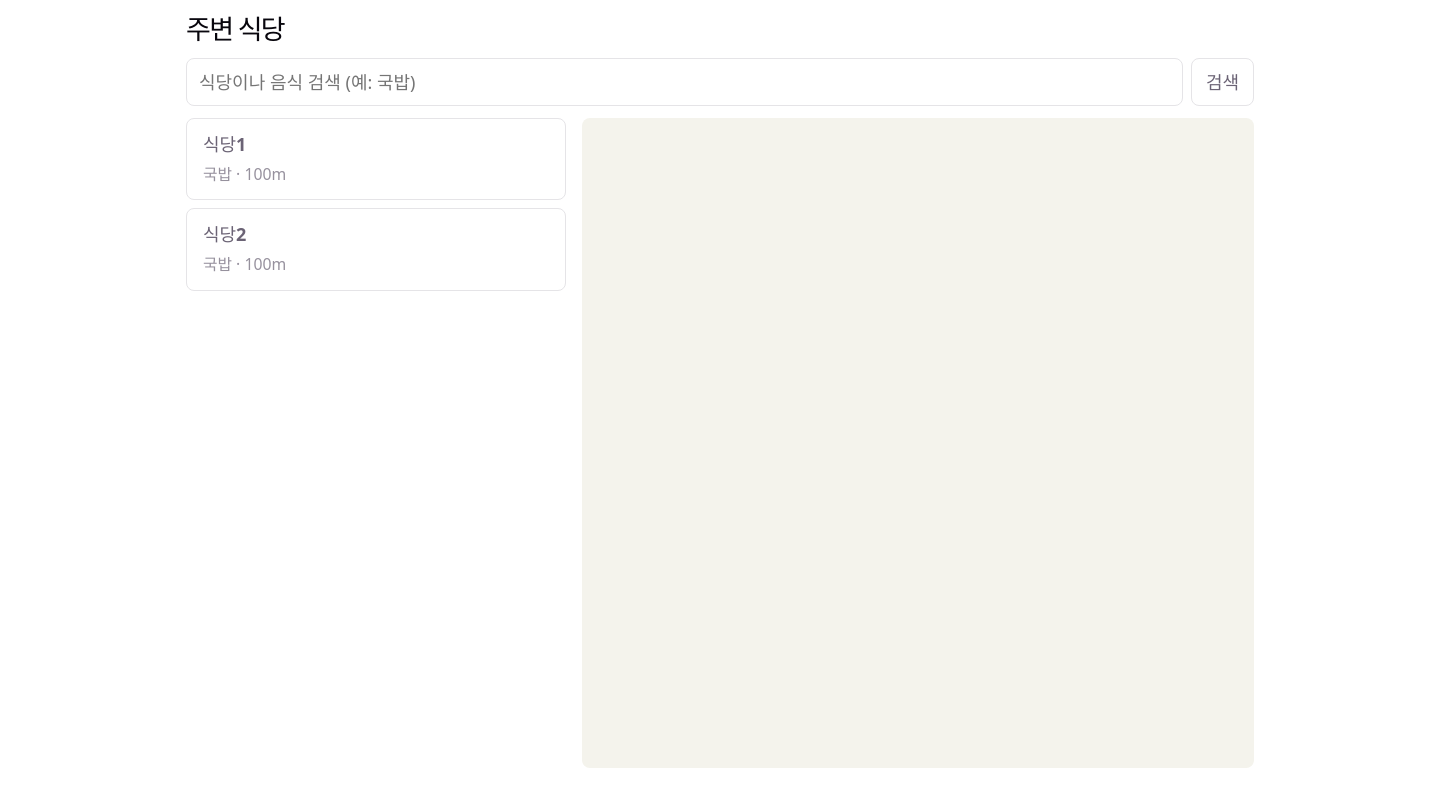
Test case: App › 식당을 선택한 뒤 검색하고 초기화하면 선택이 해제되어 지도가 그 식당으로 이동하지 않는다
This screenshot has width=1440, height=810.
Click the button "식당2 국밥 · 100m": (225, 234) 186,208 -> 566,291
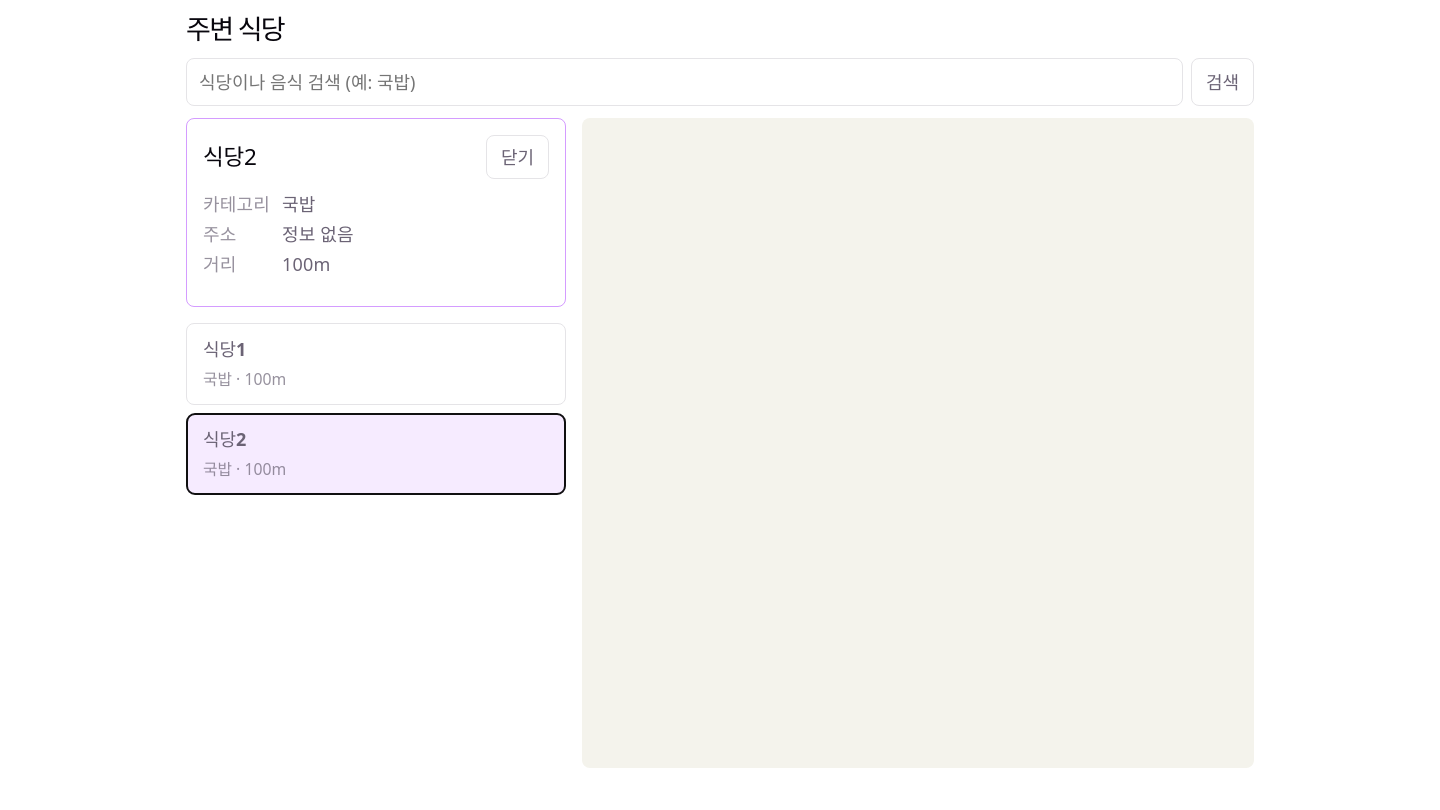
In the field named "식당 검색": (684, 82) 186,58 -> 1183,106, type "국밥"
Then press Enter
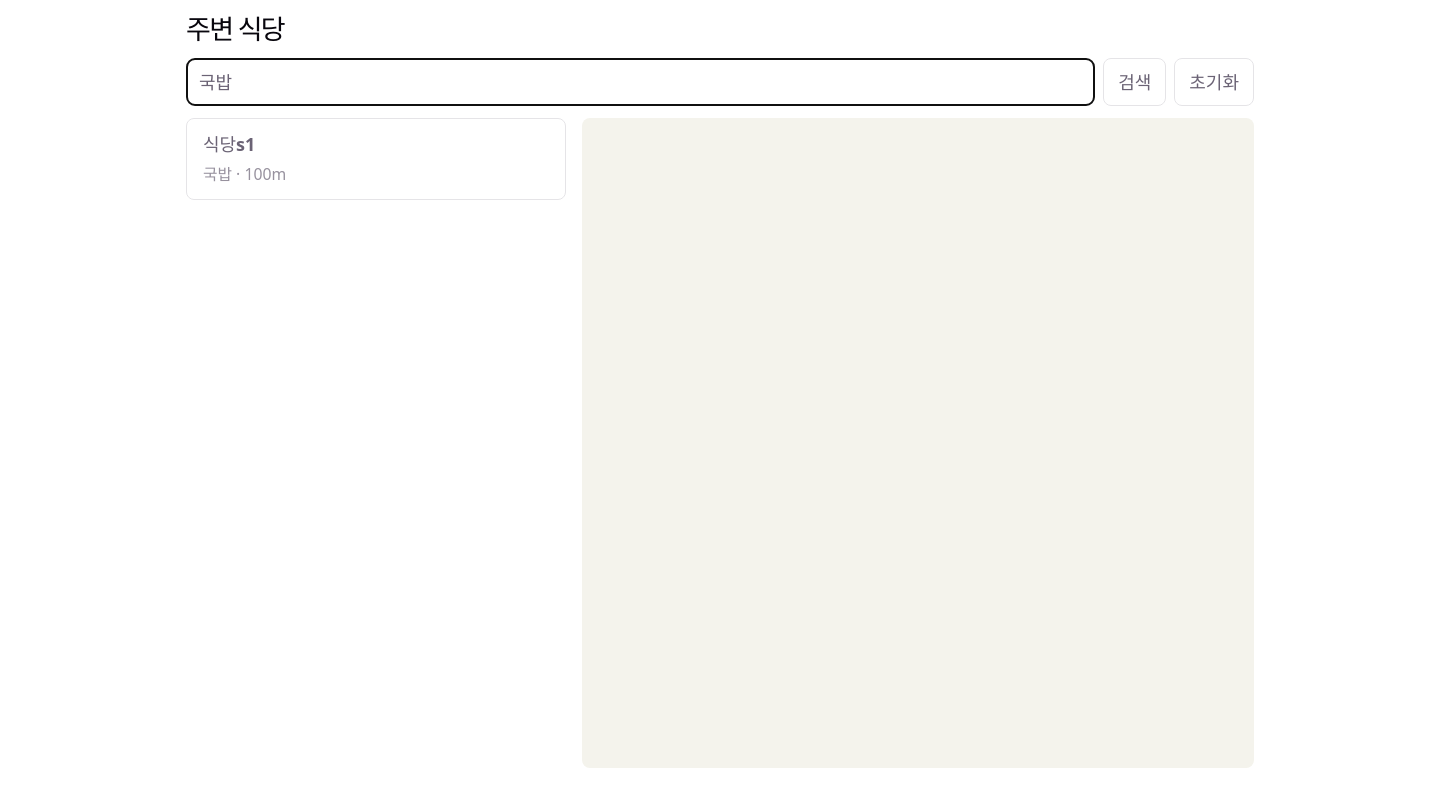
Now the text "식당s1" is shown, box 203,131 -> 255,157
Click the button "초기화": (1214, 82) 1174,58 -> 1254,106
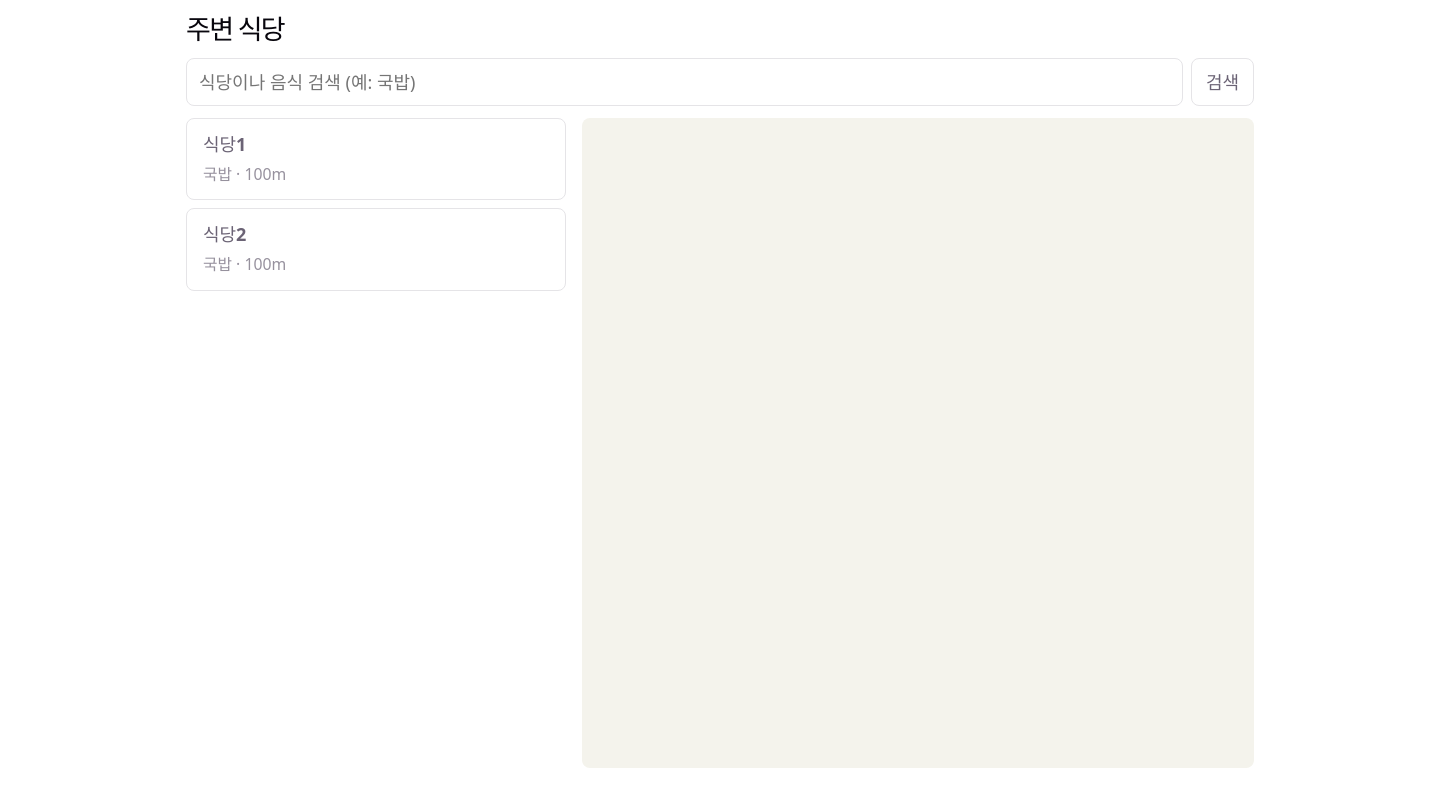
Now the text "식당2" is shown, box 203,221 -> 246,248
